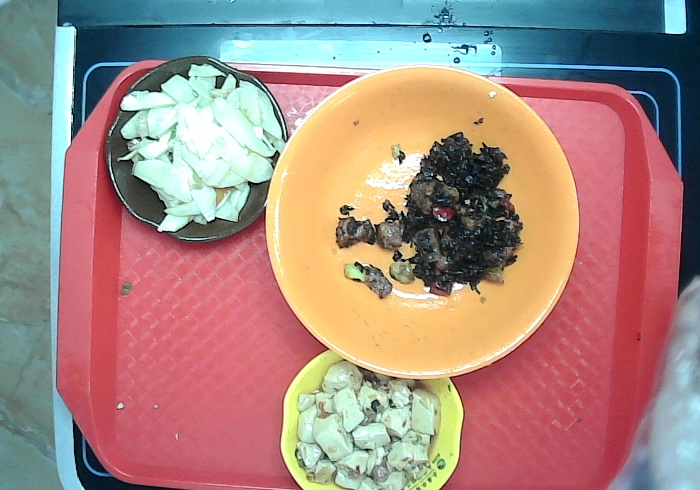YKMZ-Huang_Se_Ao_Bian_Wan: (277, 339, 465, 490)
YKMZ-Ju_Se_Tang_Wan: (264, 56, 579, 372)
YKMZ-Ka_Fei_Ao_Bian_Wan: (107, 52, 290, 250)
